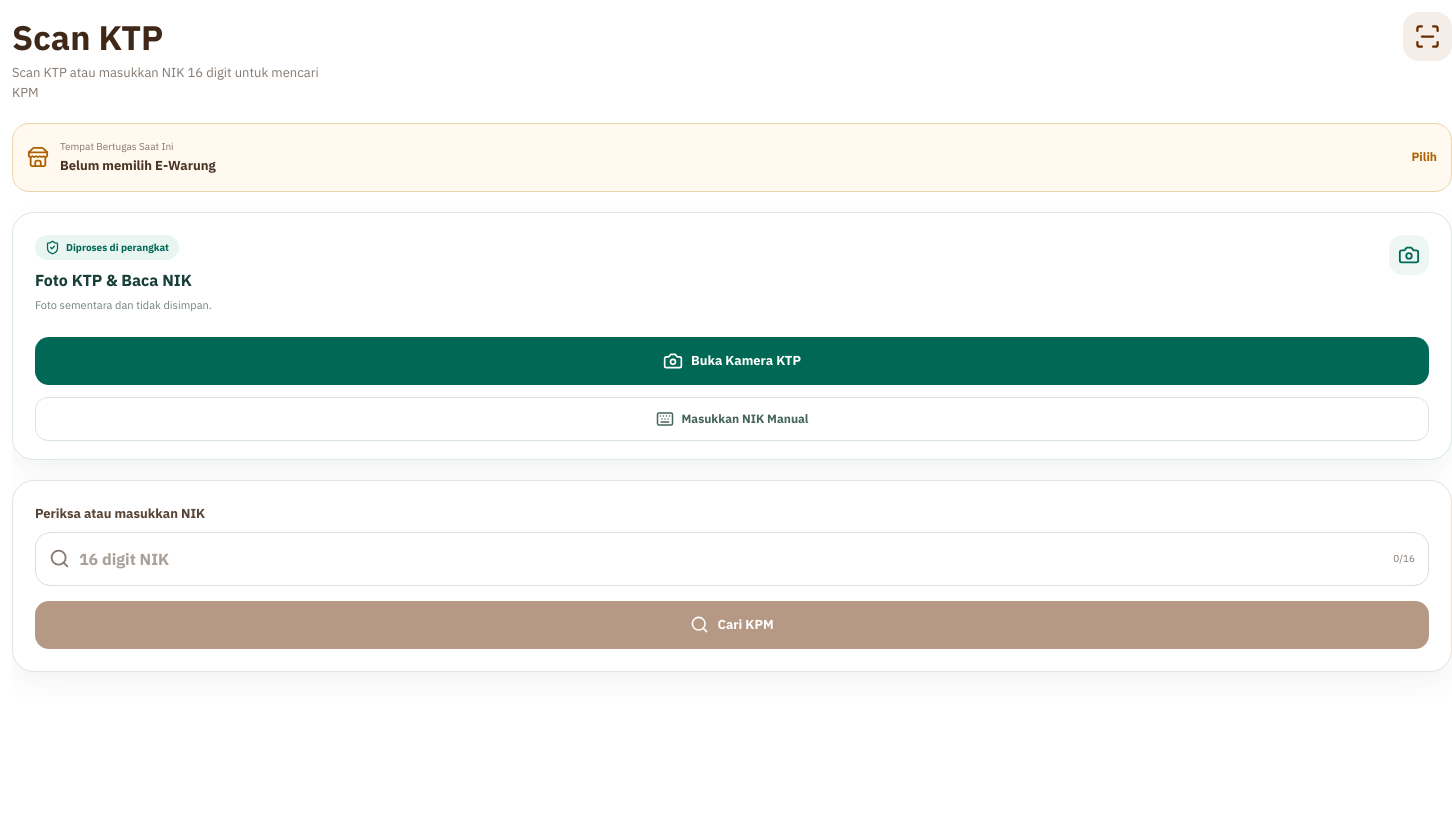
Surveyor Exact NIK Lookup › shows lookup error returned by backend
This screenshot has width=1452, height=822.
Type "3576010101010001" into the field with test id "nik-input".
click(732, 559); type("3576010101010001")  # box [79,547,1384,571]
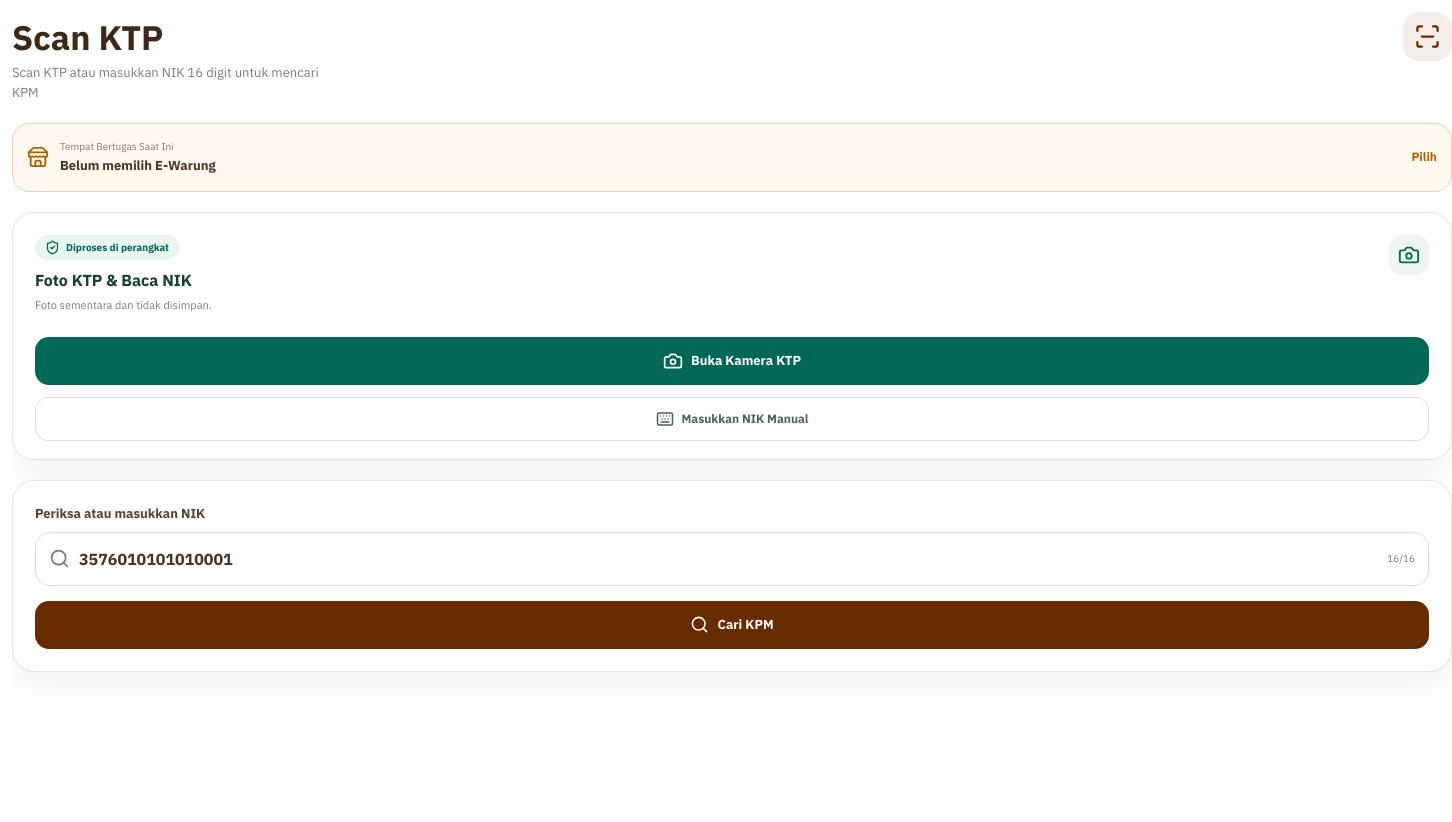
Submit the form, box [35,503,1429,649]
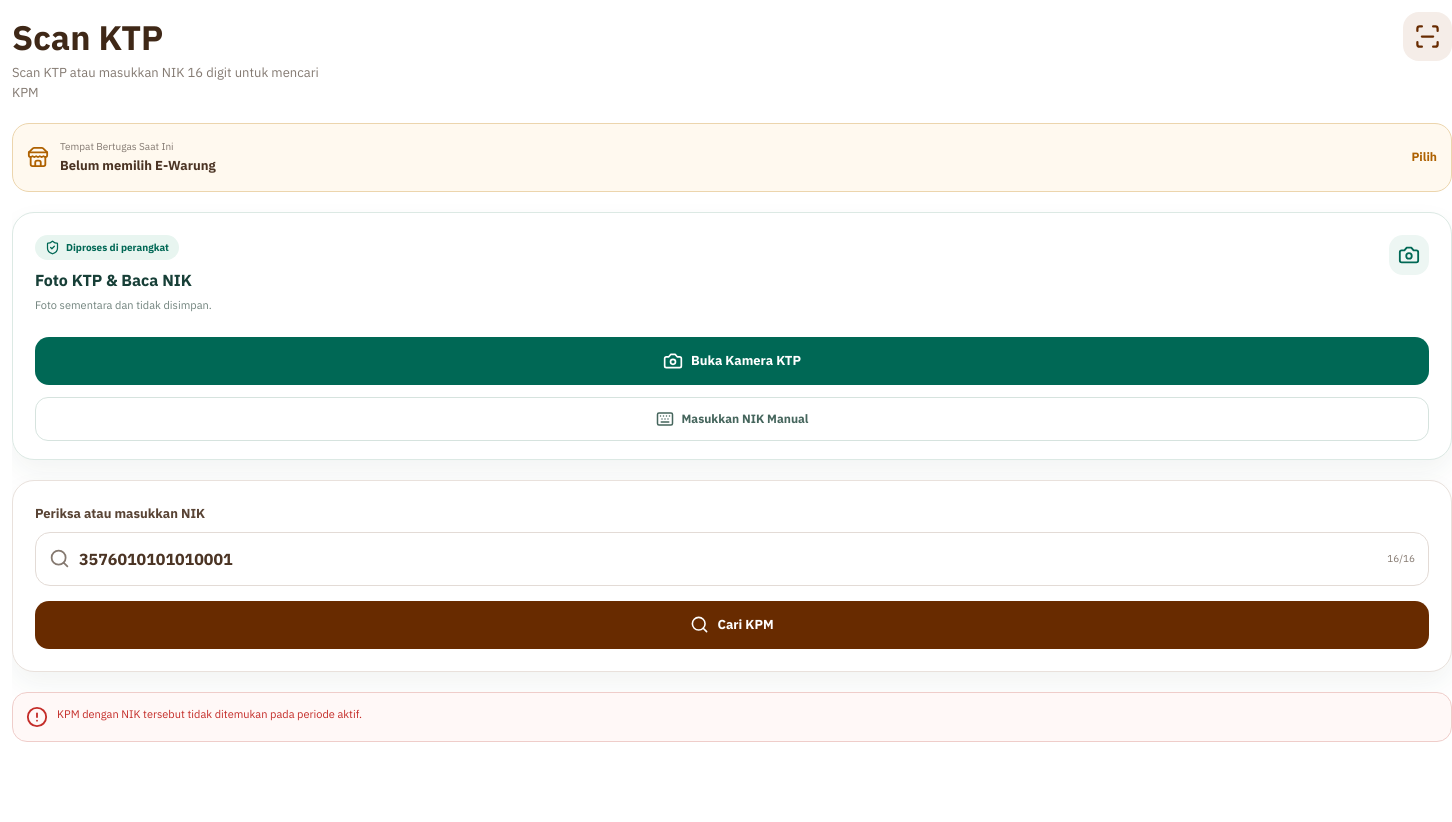
Check: the message "KPM dengan NIK tersebut tidak ditemukan pada periode aktif." is shown, box [12,692,1451,742]
Check: the text "KPM dengan NIK tersebut tidak ditemukan pada periode aktif" is shown, box [57,707,362,721]
